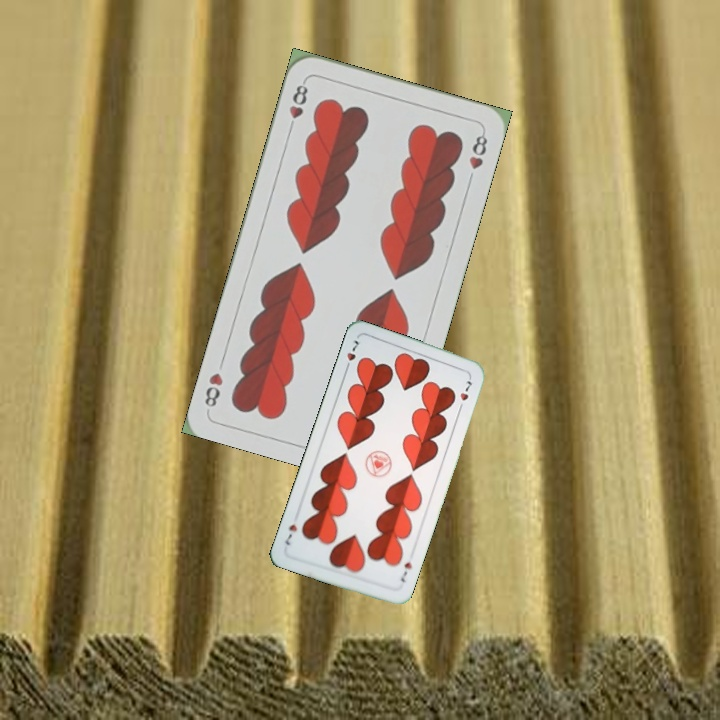H7: (341, 336, 361, 374), (396, 558, 414, 585)
H8: (284, 77, 311, 135)
